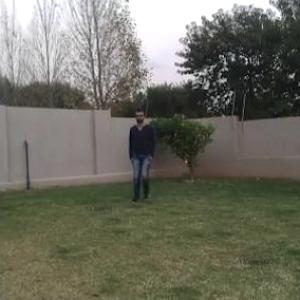follow: (130, 108, 153, 202)
